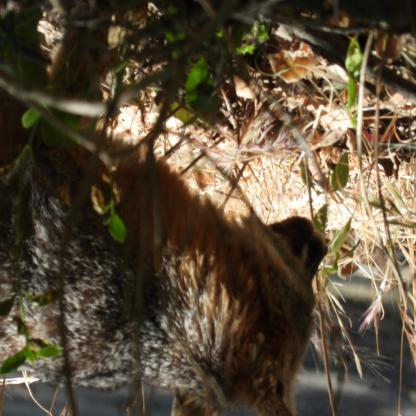zorro: (1, 63, 415, 415)
